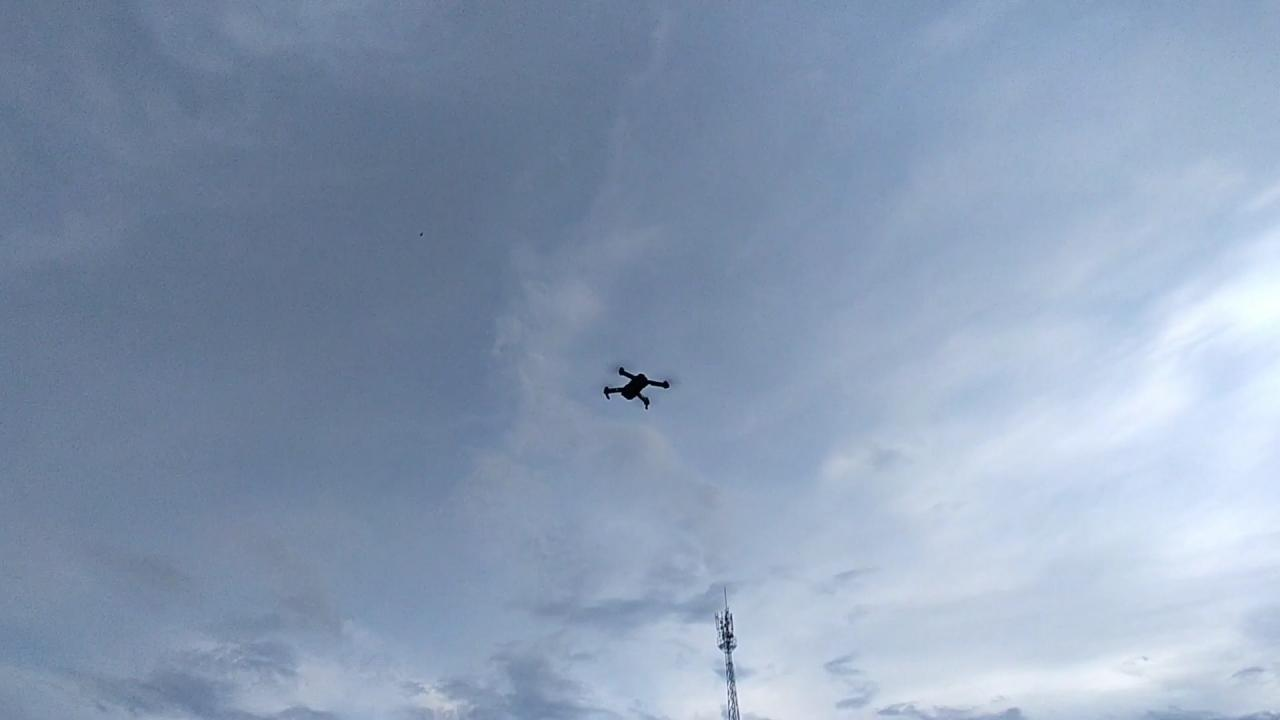Drone: (586, 349, 684, 422)
